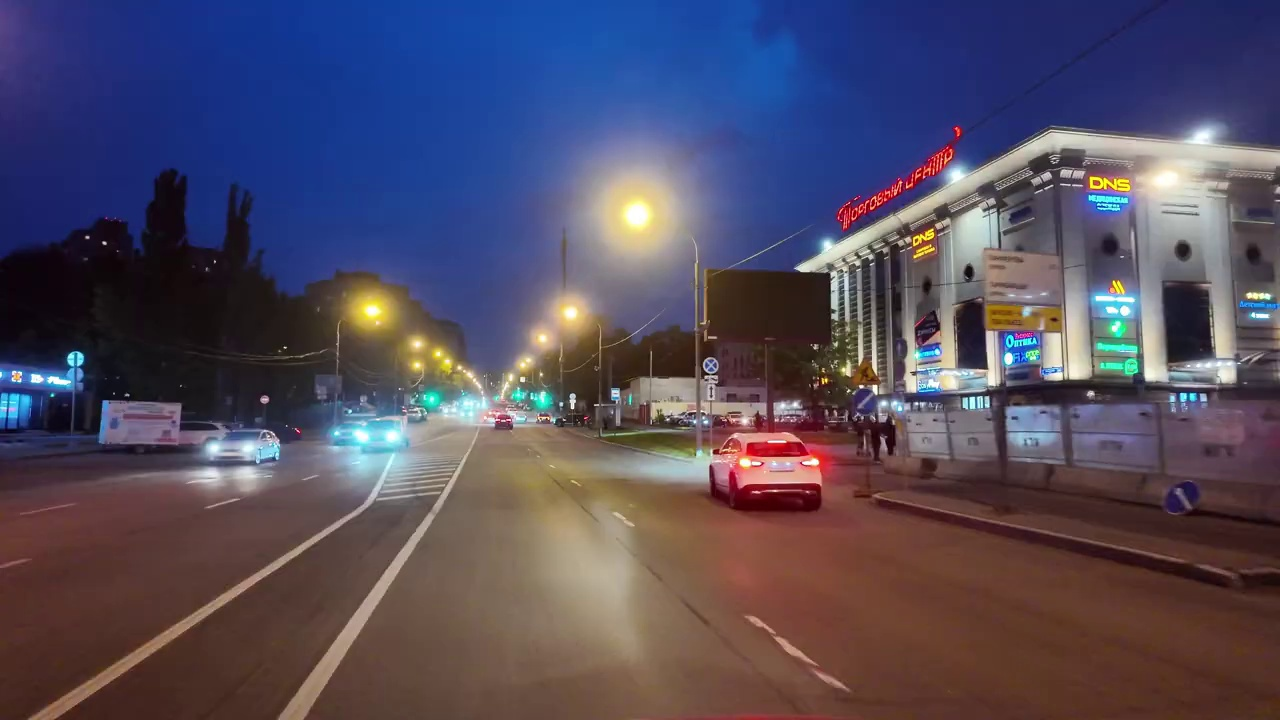acesa: (533, 295, 594, 348), (611, 192, 660, 241), (350, 292, 392, 331), (557, 297, 590, 331), (1147, 165, 1182, 193)
